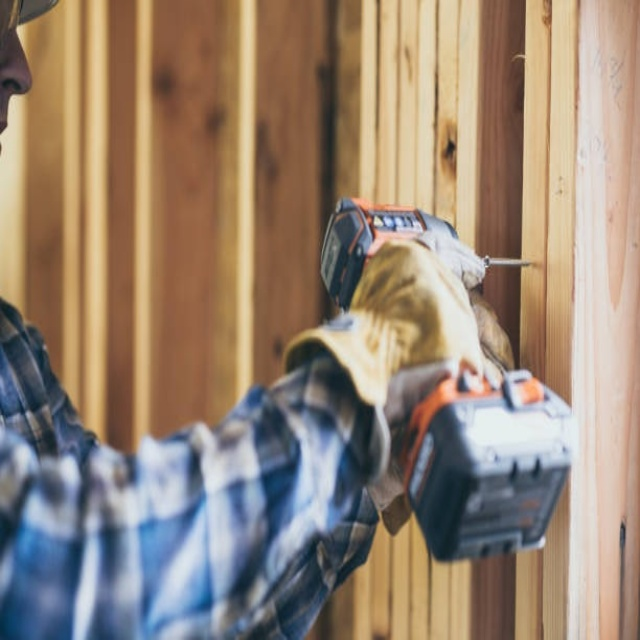Guantes: (286, 238, 487, 426)
Sin_gafas: (2, 76, 22, 95)
Sin_mascara: (0, 107, 9, 139), (0, 138, 4, 157)
